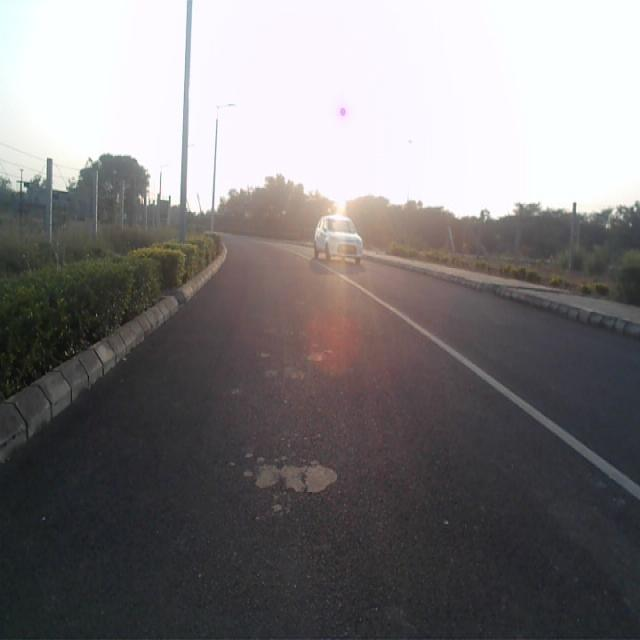lane: (0, 239, 640, 640)
